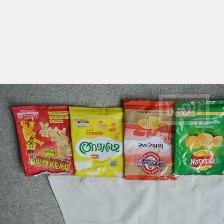snack: (5, 100, 79, 181), (116, 95, 181, 185), (63, 102, 128, 183), (168, 94, 224, 182)
